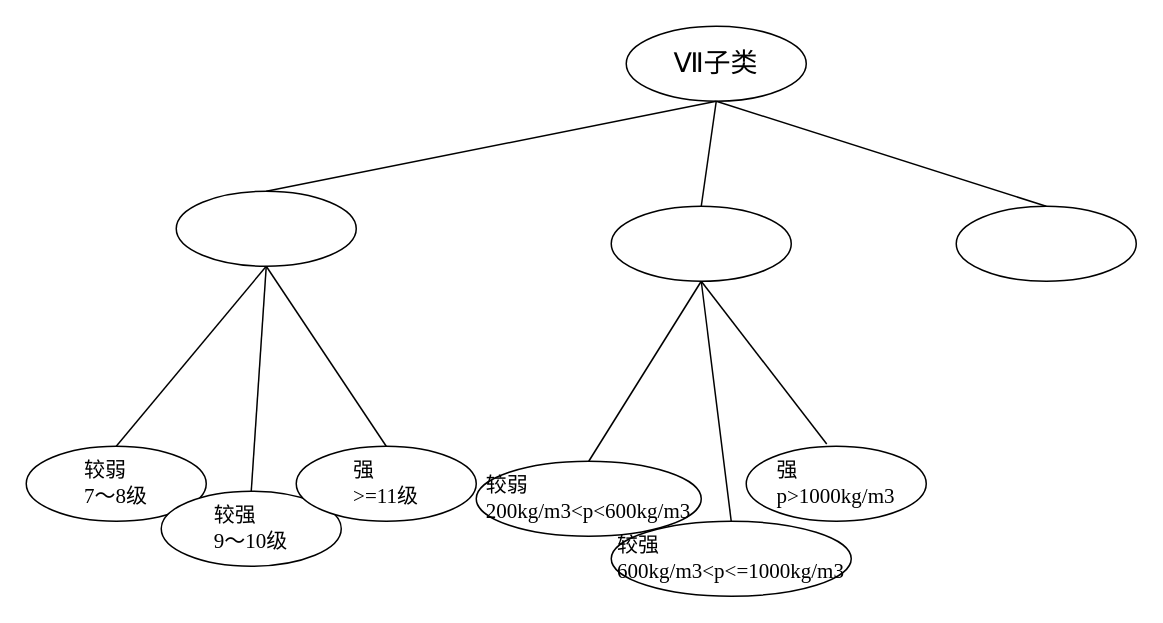
Image size: 1163x623. Some labels were removed from this diagram. Here are the shapes that lost their labels. From the top down, the box of each, then its label:
(175, 190, 356, 266): 风蚀
(610, 205, 791, 281): 泥沙
(955, 205, 1136, 281): 流冰
